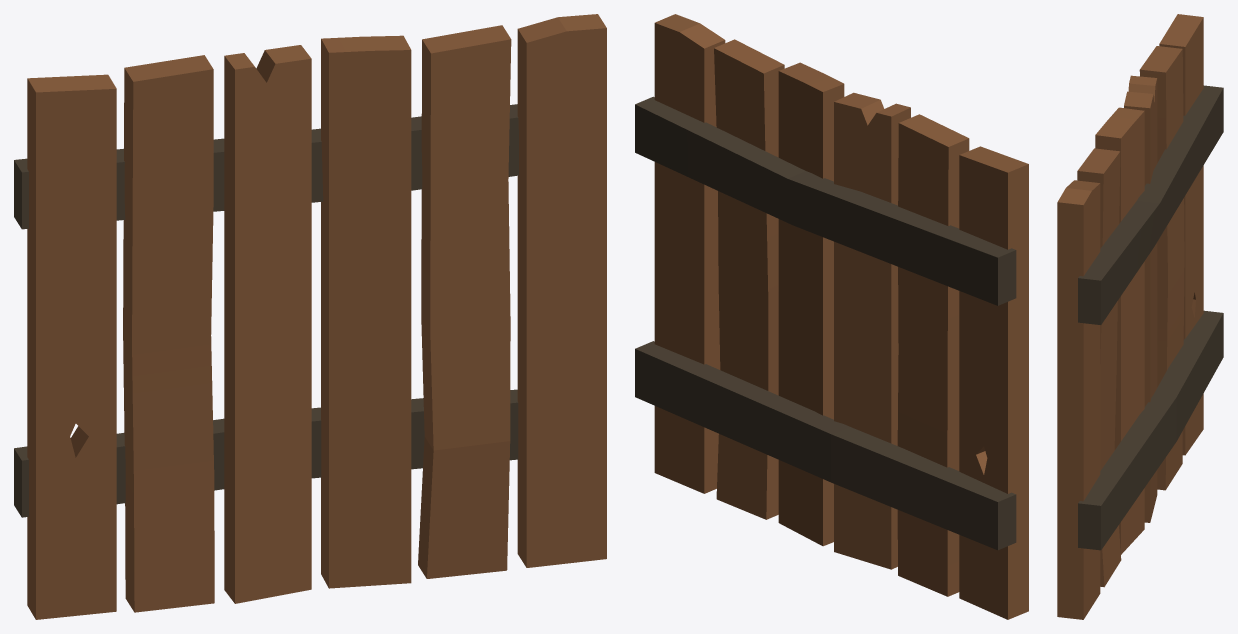
Rendered from Fence_Breakable_A (4).fbx.
3 views of the same model, side by side, from view 1: azimuth 30°, elevation 25°; view 2: azimuth 150°, elevation 25°; view 3: azimuth 270°, elevation 25° (orthographic). The views are drawn at different scales.
Visible parts, largest first — view 1: Fence_Breakable_A (4); view 2: Fence_Breakable_A (4); view 3: Fence_Breakable_A (4).
Part boxes in pixels (left/top/right/bottom): Fence_Breakable_A (4): left=14, top=14, right=606, bottom=619; Fence_Breakable_A (4): left=635, top=14, right=1028, bottom=619; Fence_Breakable_A (4): left=1057, top=14, right=1223, bottom=619.
Size of the model in its own units: 4.41 by 4.4 by 1.58.
Materials: 1 (1 with a texture image).
